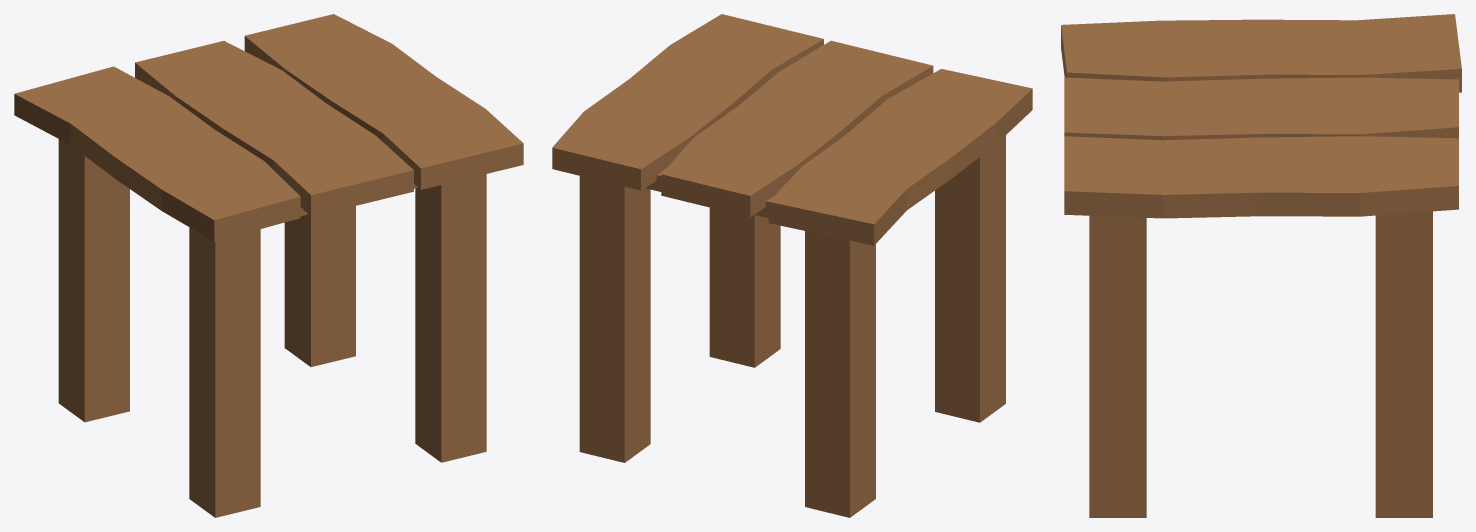
Rendered from Chair.fbx.
3 renders of one model, left to right at view 1: azimuth 30°, elevation 25°; view 2: azimuth 150°, elevation 25°; view 3: azimuth 270°, elevation 25°, orthographic. The views are drawn at different scales.
Parts seen in each view (by area): view 1: Cube.001; view 2: Cube.001; view 3: Cube.001.
Part boxes in pixels (bbox=[...]): Cube.001: bbox=[14, 14, 523, 517]; Cube.001: bbox=[552, 14, 1032, 517]; Cube.001: bbox=[1061, 14, 1461, 517].
Bounding box in the file's own units: 41.1 × 36.06 × 38.49.
